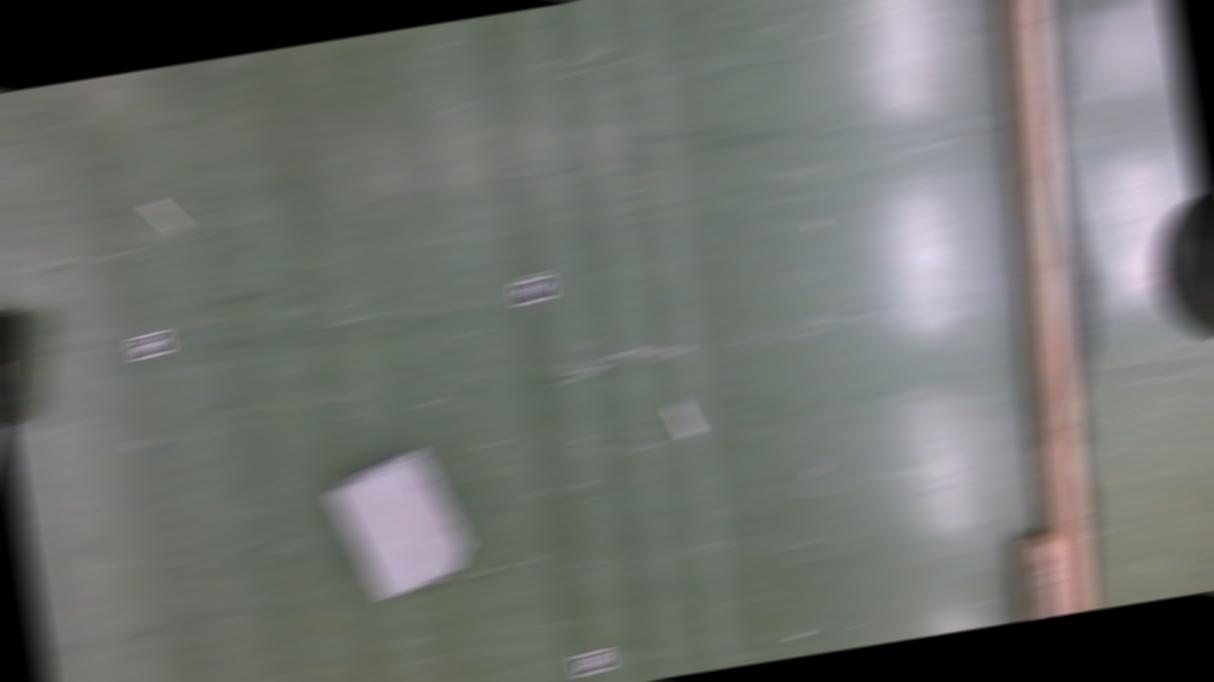probes: (145, 197, 185, 232), (669, 398, 699, 436)
rako: (322, 442, 474, 603), (0, 291, 40, 427)
